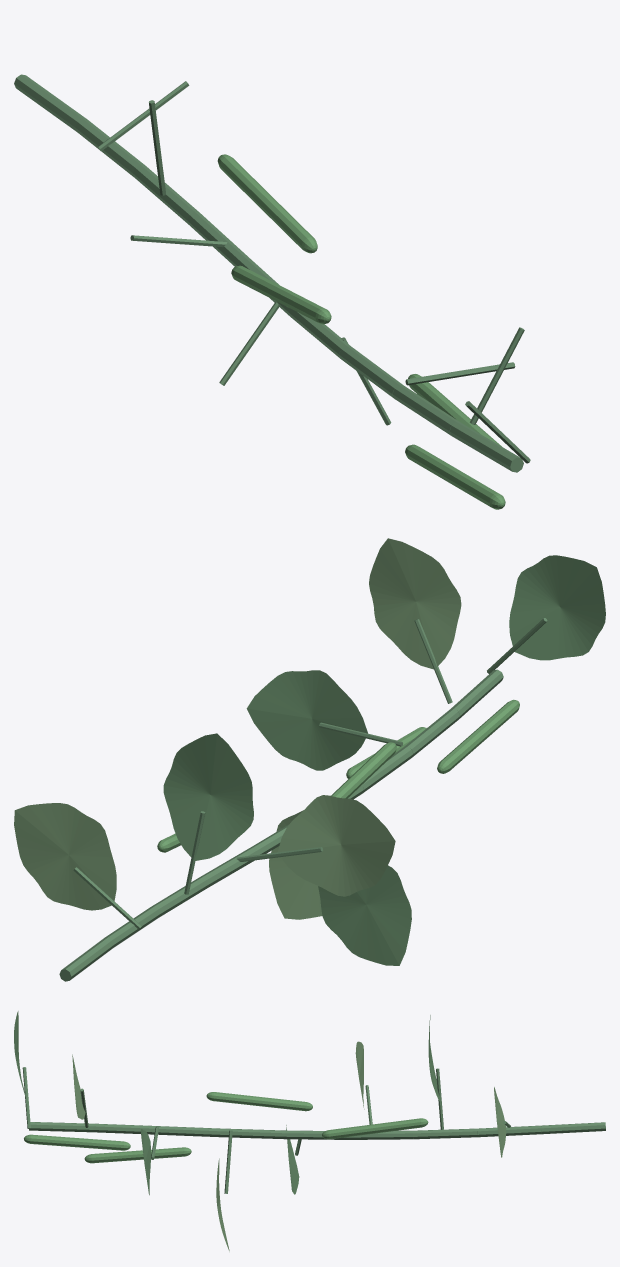
File: cucumber_b.glb
The picture shows the model from 3 angles, top to bottom: view 1: azimuth 30°, elevation 25°; view 2: azimuth 150°, elevation 25°; view 3: azimuth 270°, elevation 25°; orthographic projection. The views are drawn at different scales.
Parts seen in each view (by area): view 1: Stem, FruitGreen; view 2: Leaves, Stem, FruitGreen; view 3: Stem, FruitGreen, Leaves.
Part boxes in pixels (x1,y1,x2,y2): Stem: [14, 74, 530, 472]; FruitGreen: [217, 154, 505, 509]; Leaves: [14, 538, 605, 965]; Stem: [59, 618, 547, 981]; FruitGreen: [157, 699, 519, 852]; Stem: [22, 1067, 605, 1193]; FruitGreen: [24, 1092, 428, 1163]; Leaves: [14, 1011, 506, 1251].
Size of the model in its own units: 0.7512 by 0.7352 by 1.85.
